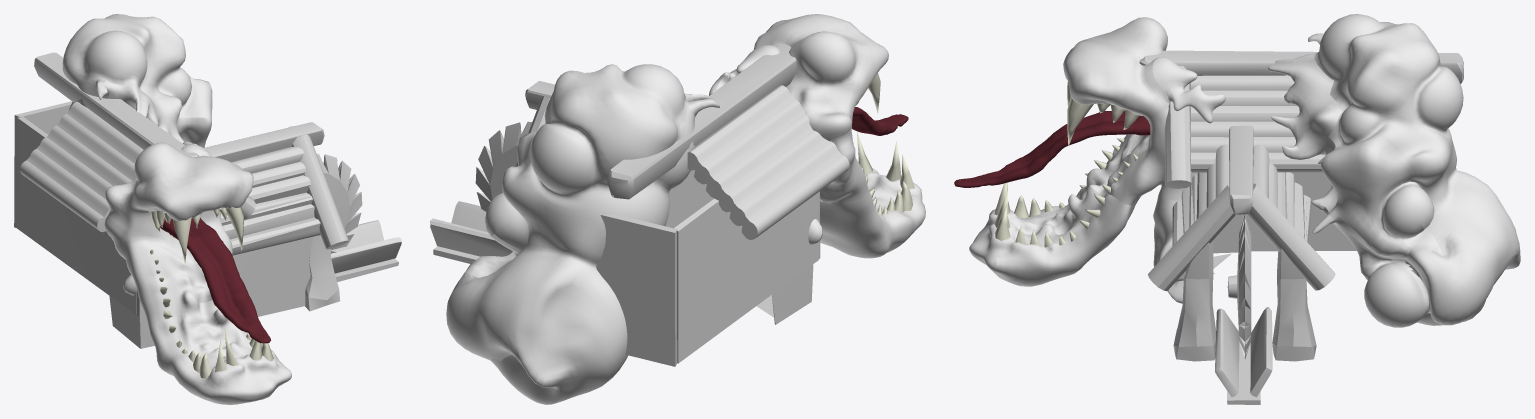
Rendered from tartak.fbx.
3 views of the same model, side by side, from view 1: azimuth 30°, elevation 25°; view 2: azimuth 150°, elevation 25°; view 3: azimuth 270°, elevation 25° (orthographic). The views are drawn at different scales.
Visible parts, largest first — view 1: Cube_050.002, mieskoremeshed.003, Cube.048; view 2: mieskoremeshed.003, Cube_050.002, Cube.048; view 3: mieskoremeshed.003, Cube_050.002, Cube.048.
Boxes of the visible parts, x1,y1,x2,y2 form: Cube_050.002: (14,52,401,348); mieskoremeshed.003: (62,14,291,404); Cube.048: (150,206,273,378); mieskoremeshed.003: (446,14,925,404); Cube_050.002: (430,44,849,366); Cube.048: (852,73,914,215); mieskoremeshed.003: (969,14,1520,327); Cube_050.002: (1139,50,1463,404); Cube.048: (954,82,1150,247).
Size of the model in its own units: 2326 by 1776 by 3266.
